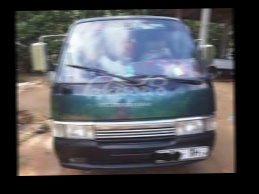van: (32, 14, 223, 170)
